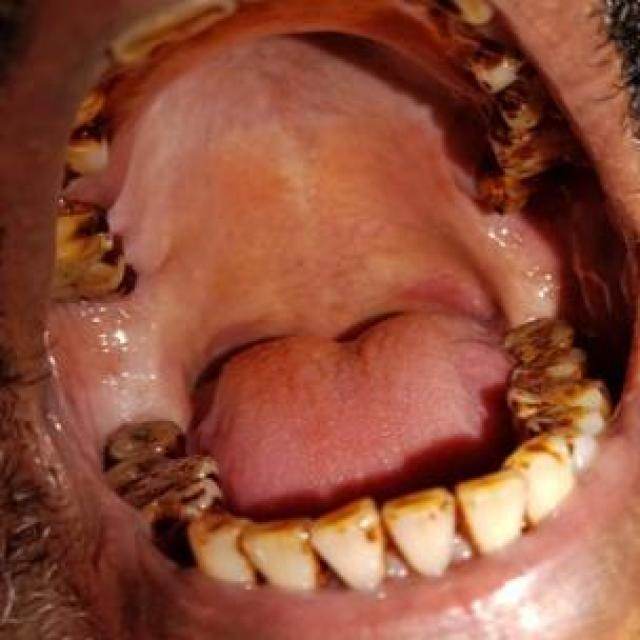processing_area: (51, 1, 572, 511)
